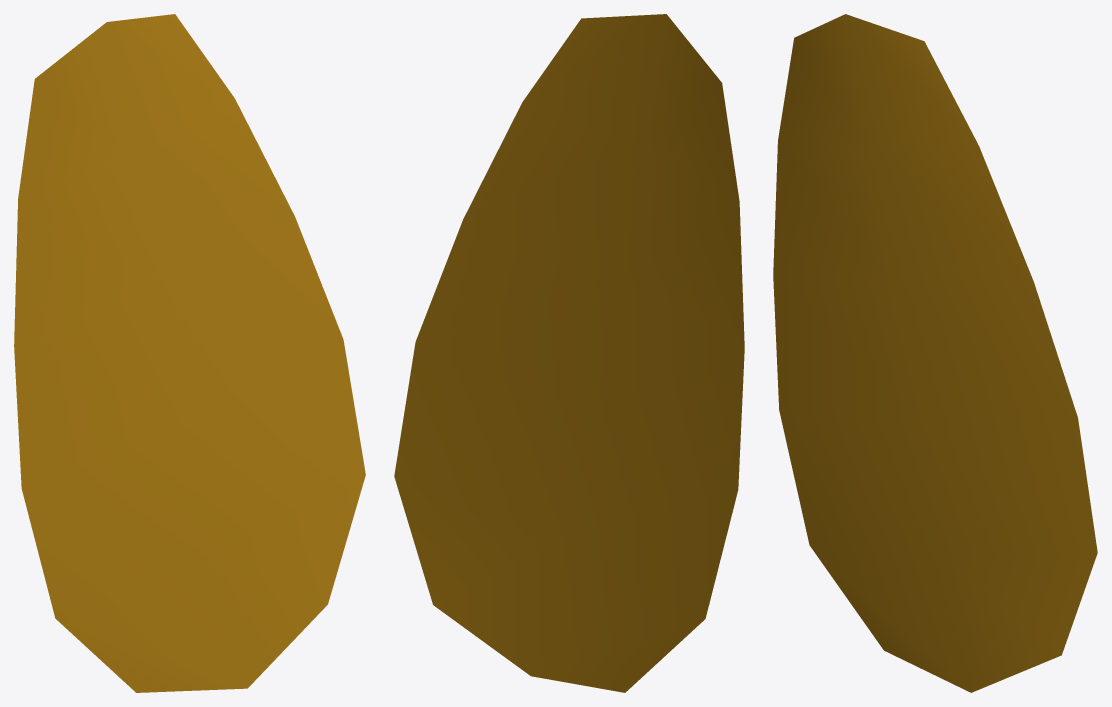
The model's file is canary_feather_flight_tertiary_016.obj.
3 views of the same model, side by side, from view 1: azimuth 30°, elevation 25°; view 2: azimuth 150°, elevation 25°; view 3: azimuth 330°, elevation 25° (orthographic). The views are drawn at different scales.
Visible parts, largest first — view 1: feather_flight_tertiary_016; view 2: feather_flight_tertiary_016; view 3: feather_flight_tertiary_016.
Part boxes in pixels (left/top/right/bottom): feather_flight_tertiary_016: left=14, top=14, right=365, bottom=692; feather_flight_tertiary_016: left=394, top=14, right=744, bottom=692; feather_flight_tertiary_016: left=773, top=14, right=1097, bottom=692.
Bounding box in the file's own units: 0.00369 × 0.007 × 0.0002.
